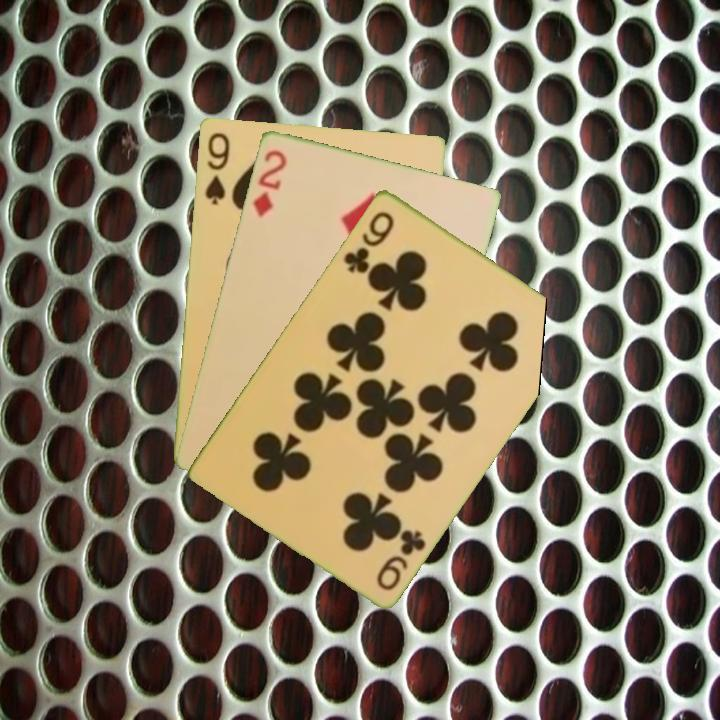2d: (249, 145, 289, 220)
9c: (339, 207, 397, 276), (372, 525, 429, 593)
9s: (201, 128, 232, 207)
